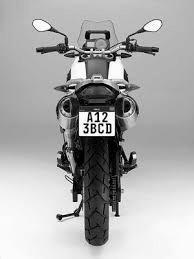placa_mercosul: (79, 105, 116, 138)
